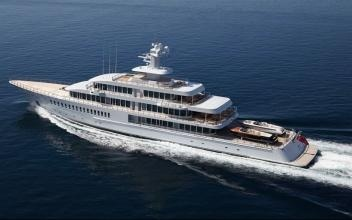yacht: (6, 54, 324, 168)
